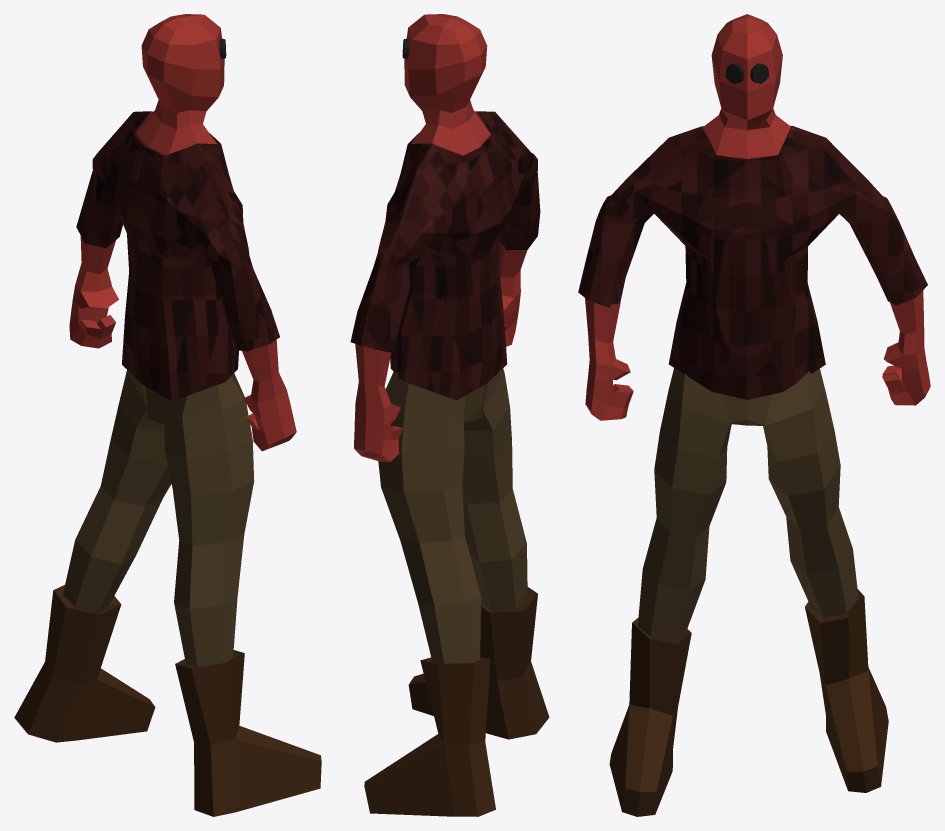
Rendered from Low Poly Male.fbx.
The picture shows the model from 3 angles, left to right: view 1: azimuth 30°, elevation 25°; view 2: azimuth 150°, elevation 25°; view 3: azimuth 270°, elevation 25°; orthographic projection.
Parts seen in each view (by area): view 1: Human; view 2: Human; view 3: Human.
Boxes of the visible parts, left/top/right/bottom form: Human: left=14, top=14, right=321, bottom=816; Human: left=350, top=14, right=549, bottom=816; Human: left=578, top=14, right=930, bottom=816.
Bounding box in the file's own units: 128 × 493 × 206.
5 materials, 5 textured.
